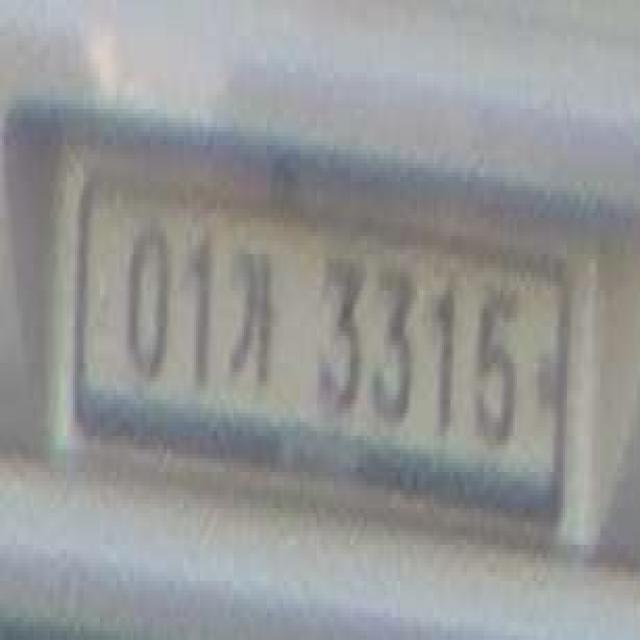0: (123, 222, 170, 384)
1: (422, 274, 464, 443), (175, 223, 218, 386)
3: (316, 244, 370, 422), (370, 260, 417, 420)
5: (470, 282, 526, 460)
ga: (223, 234, 282, 400)
license_plate: (63, 177, 574, 532)
